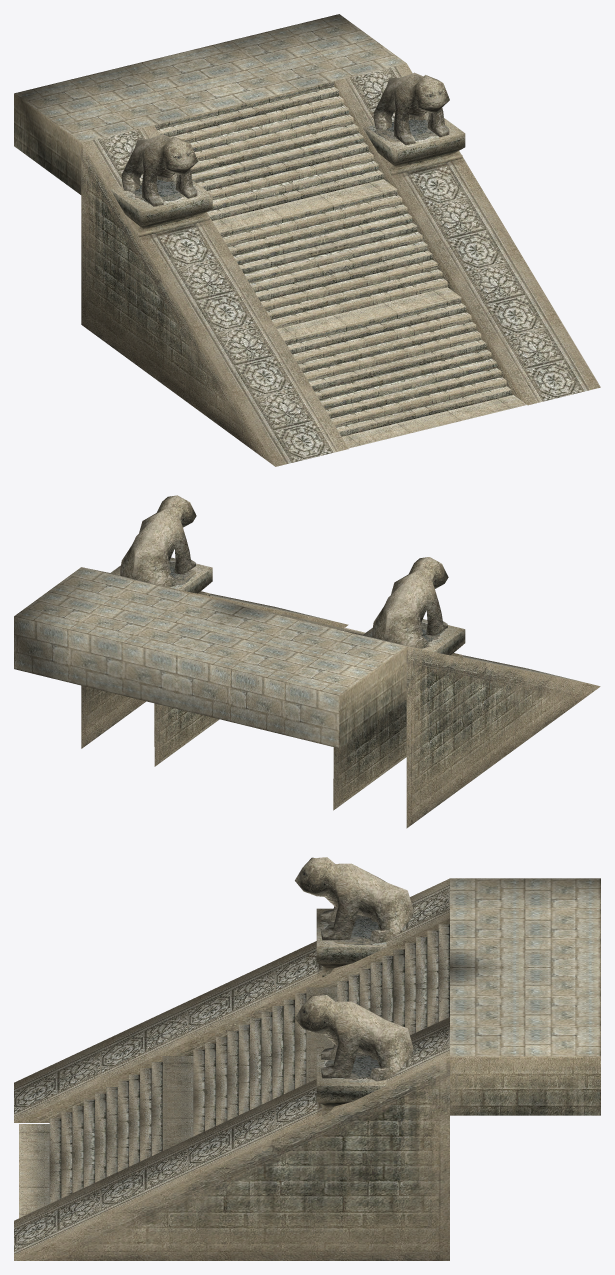
File: desert-002-inwall-02.fbx
3 renders of one model, top to bottom at view 1: azimuth 30°, elevation 25°; view 2: azimuth 150°, elevation 25°; view 3: azimuth 270°, elevation 25°, orthographic. The views are drawn at different scales.
Parts seen in each view (by area): view 1: desert-002-inwall-02; view 2: desert-002-inwall-02; view 3: desert-002-inwall-02.
Part boxes in pixels (box(x1,y1,x2,y2)): desert-002-inwall-02: box(14, 14, 600, 466); desert-002-inwall-02: box(14, 495, 600, 828); desert-002-inwall-02: box(14, 857, 600, 1260).
Bounding box in the file's own units: 11.38 × 7.39 × 15.85.
